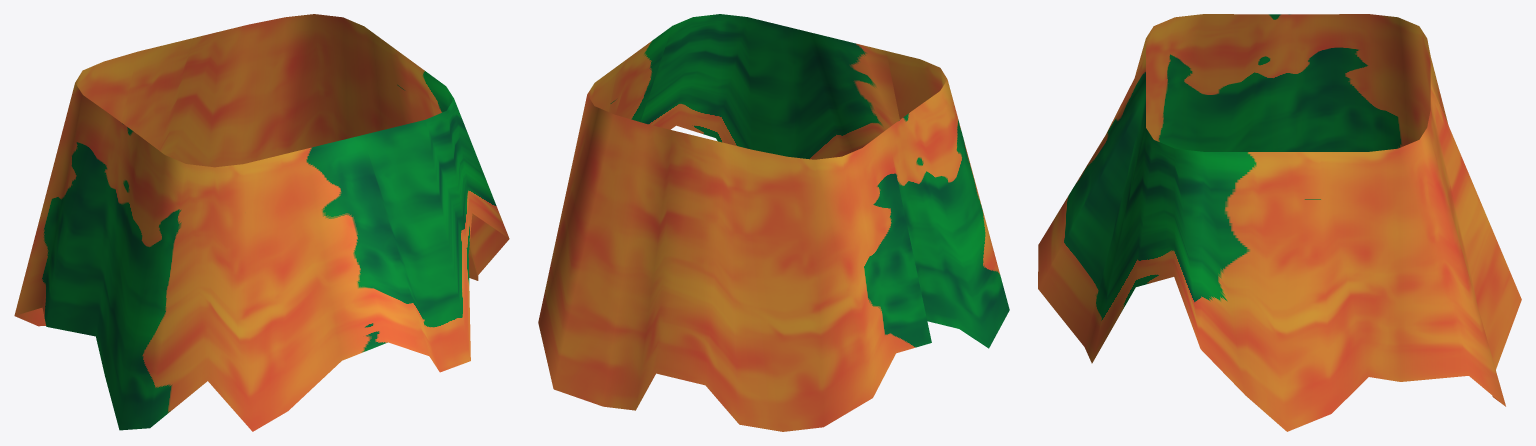
The model's file is p_mesh_trashbot_flowspray.fbx.
3 renders of one model, left to right at view 1: azimuth 30°, elevation 25°; view 2: azimuth 150°, elevation 25°; view 3: azimuth 270°, elevation 25°, orthographic. The views are drawn at different scales.
Parts seen in each view (by area): view 1: p_mesh_growlab_trashgooflow_pose; view 2: p_mesh_growlab_trashgooflow_pose; view 3: p_mesh_growlab_trashgooflow_pose.
Boxes of the visible parts, x1=… form: p_mesh_growlab_trashgooflow_pose: x1=14, y1=14, x2=509, y2=431; p_mesh_growlab_trashgooflow_pose: x1=538, y1=14, x2=1009, y2=431; p_mesh_growlab_trashgooflow_pose: x1=1038, y1=14, x2=1521, y2=431.
Size of the model in its own units: 16.1 by 10.45 by 16.39.
